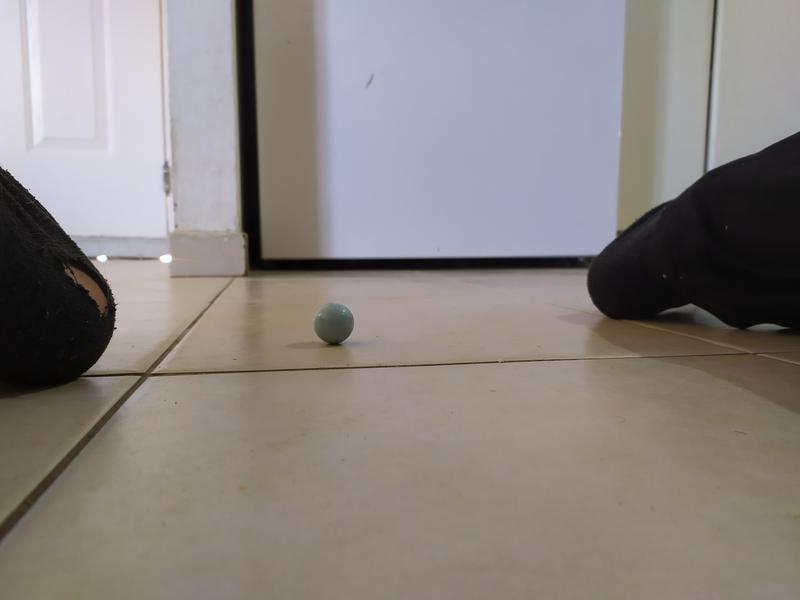Warning: (311, 301, 356, 346)
